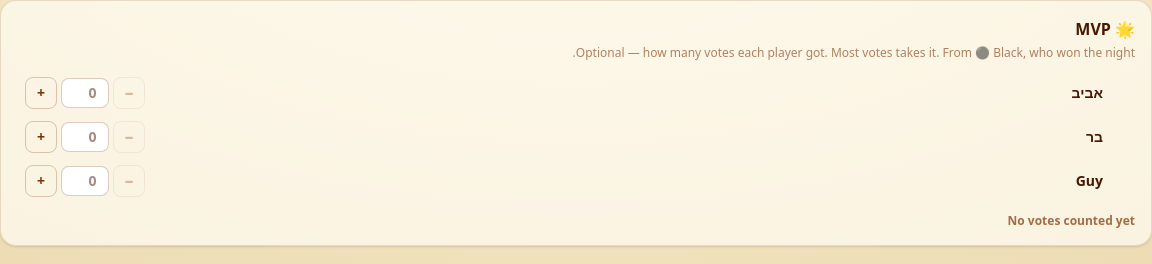
it: MvpPicker › does not let entry order settle a level sheet being typed from scratch
Step 1. Click the button "+" in the row of "אביב" → click(41, 93), box [25,77,57,109]
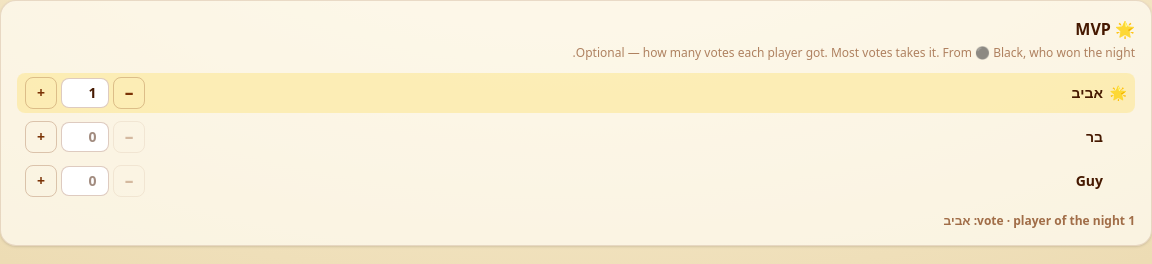
Step 2. Click the button "+" in the row of "בר" → click(41, 137), box [25,121,57,153]
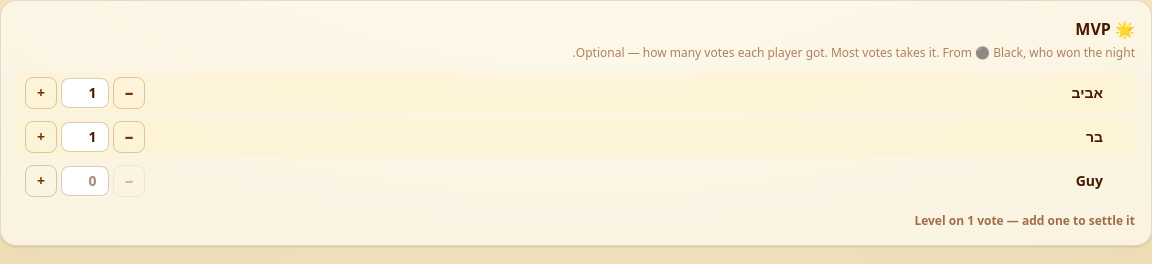
Expected: the text "Level on 1 vote — add one to settle it" is shown, [914,212,1135,229]
